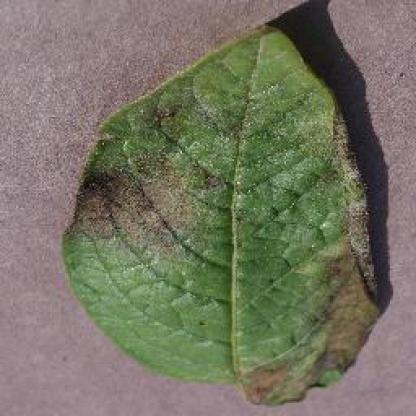bad leaf: (71, 107, 386, 402)
